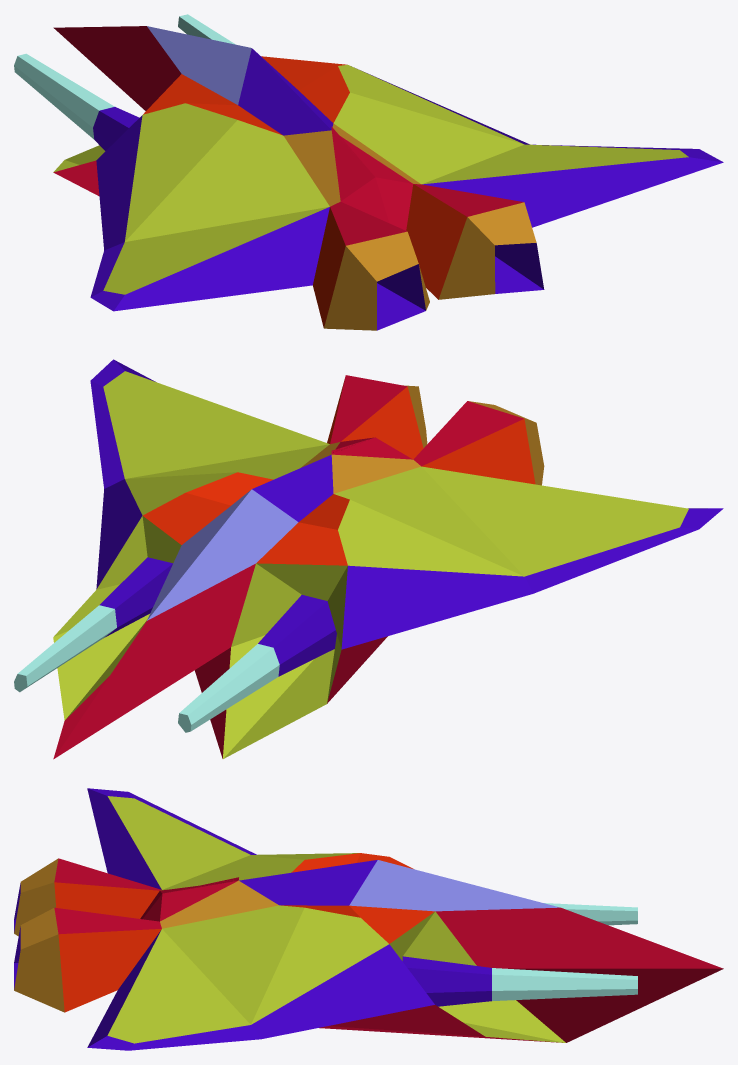
File: InterceptorSpaceshooter.fbx
3 views of the same model, one above another, from view 1: azimuth 30°, elevation 25°; view 2: azimuth 150°, elevation 25°; view 3: azimuth 270°, elevation 25° (orthographic). The views are drawn at different scales.
Parts seen in each view (by area): view 1: Cube; view 2: Cube; view 3: Cube.
Boxes of the visible parts, box(x1,y1,x2,y2) form: Cube: box(14, 14, 723, 330); Cube: box(14, 359, 723, 759); Cube: box(14, 788, 723, 1050).
Size of the model in its own units: 594 by 160 by 687.
